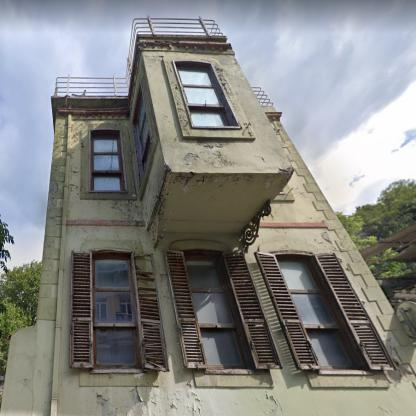window: (278, 259, 358, 367), (185, 259, 243, 365), (94, 258, 140, 368), (176, 68, 232, 126), (93, 137, 121, 191), (135, 93, 149, 159)
